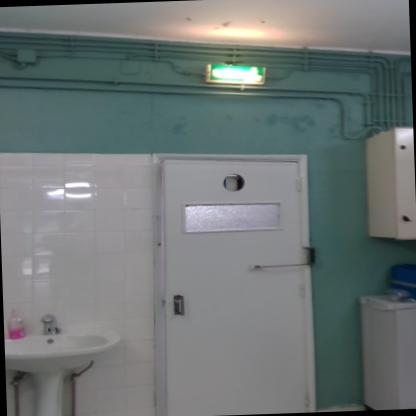closed: (141, 143, 332, 415)
